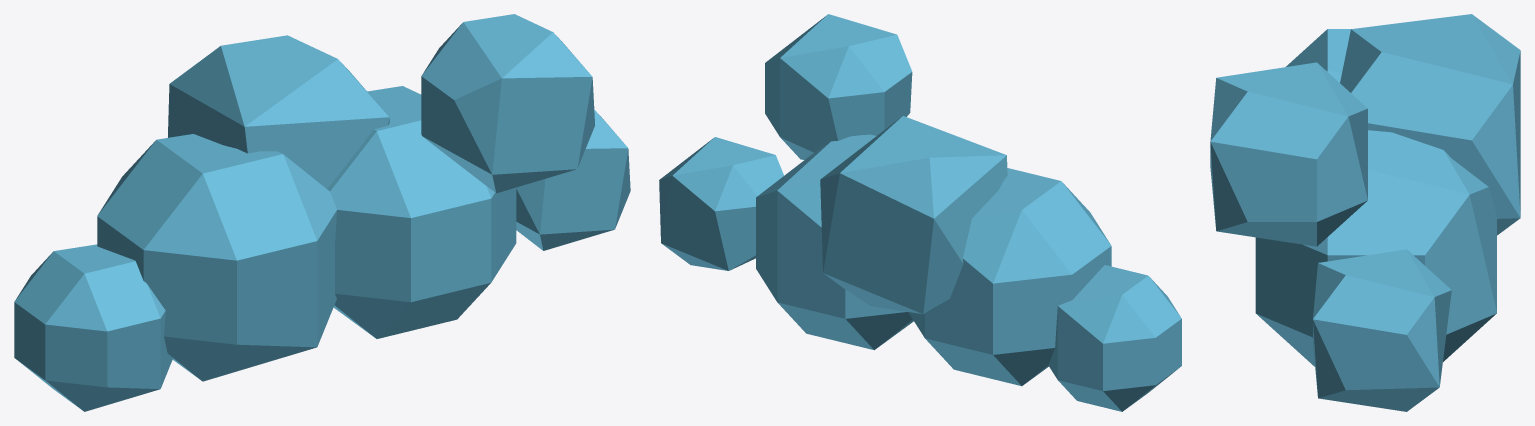
The model's file is Cloud_v01.fbx.
The picture shows the model from 3 angles, left to right: view 1: azimuth 30°, elevation 25°; view 2: azimuth 150°, elevation 25°; view 3: azimuth 270°, elevation 25°; orthographic projection. The views are drawn at different scales.
Visible parts, largest first — view 1: Cloud_v01; view 2: Cloud_v01; view 3: Cloud_v01.
Part boxes in pixels (box(x1,y1,x2,y2)): Cloud_v01: box(14, 14, 630, 411); Cloud_v01: box(659, 14, 1181, 411); Cloud_v01: box(1210, 14, 1520, 411).
Size of the model in its own units: 42.17 by 21.31 by 18.36.
1 material, 1 textured.
